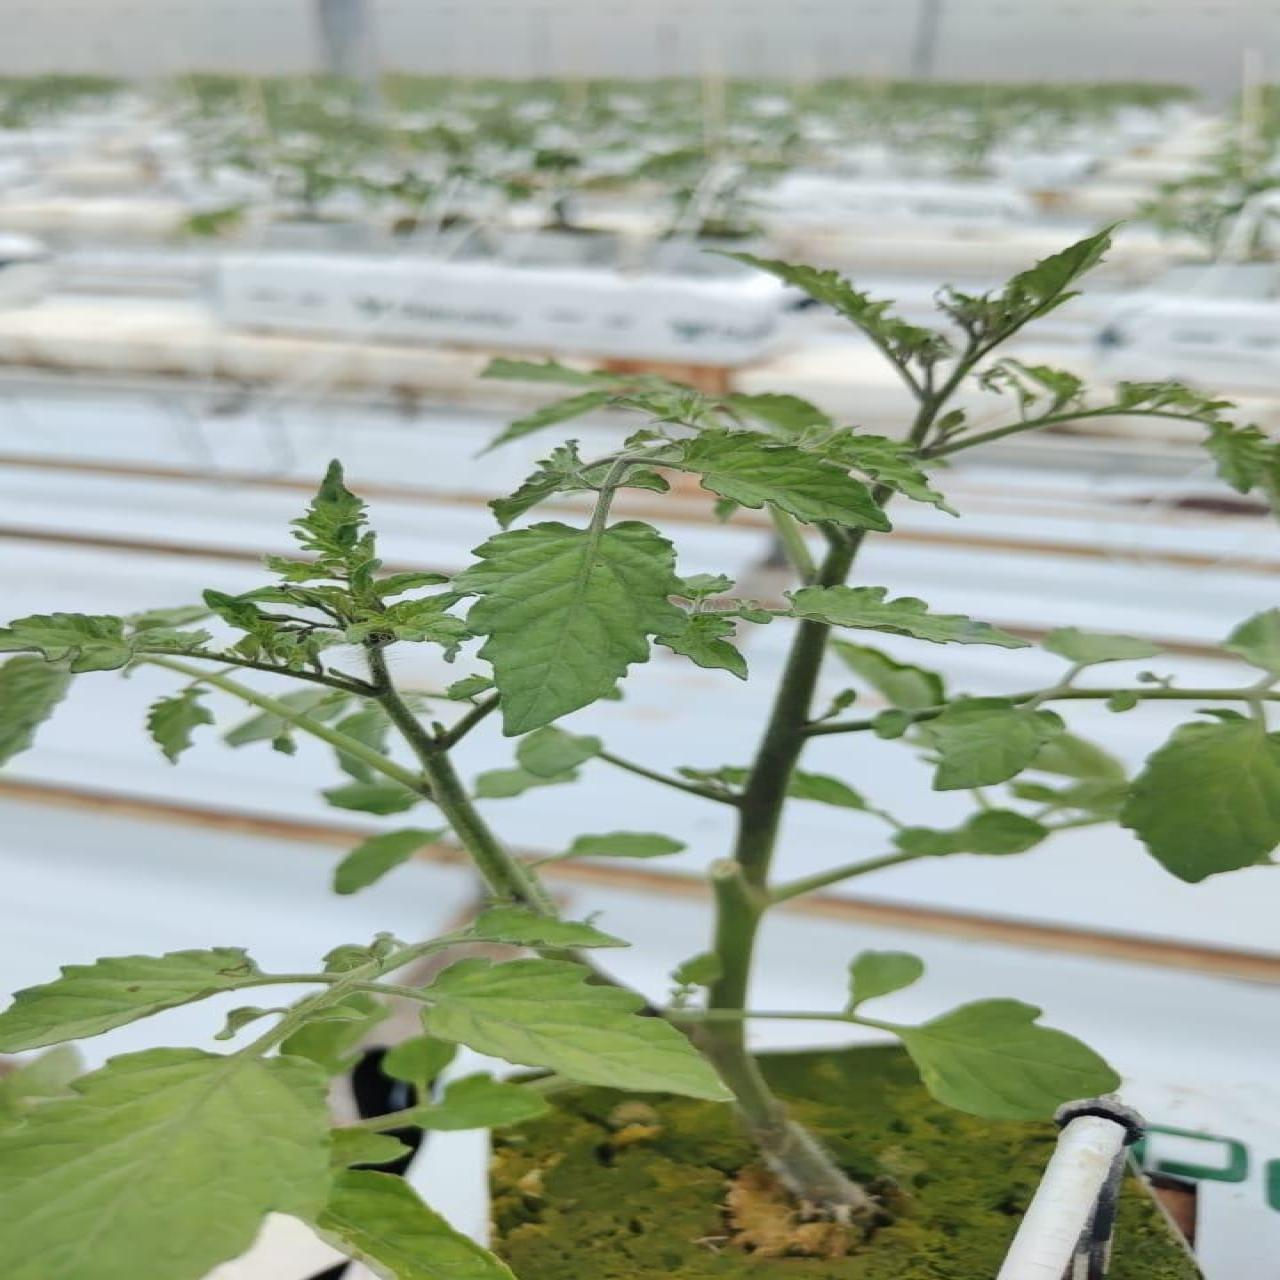T_L_H: (1, 1048, 411, 1280), (349, 958, 735, 1105), (454, 520, 694, 738), (899, 1001, 1121, 1121)
T_L_R: (678, 431, 890, 531), (788, 586, 1028, 647)
